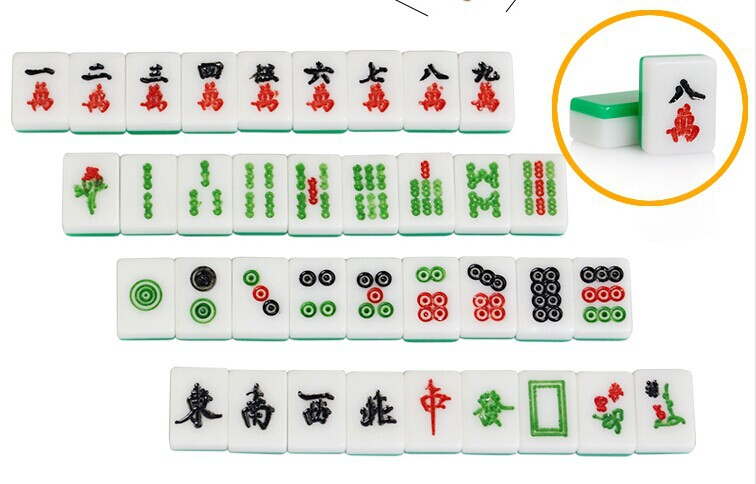1W: (13, 54, 67, 123)
1i: (70, 156, 113, 219)
2W: (75, 56, 113, 120)
2i: (128, 157, 169, 223)
3W: (133, 56, 177, 118)
3i: (184, 157, 226, 220)
4W: (190, 59, 229, 116)
4i: (240, 158, 280, 222)
5W: (246, 59, 286, 118)
5i: (292, 157, 334, 221)
6W: (299, 54, 339, 116)
6i: (349, 159, 392, 225)
7W: (355, 54, 393, 115)
7i: (405, 158, 449, 219)
8W: (648, 61, 714, 149), (412, 56, 452, 116)
8i: (461, 157, 505, 222)
9W: (467, 54, 508, 117)
9i: (519, 157, 560, 219)
East: (172, 370, 224, 440)
Green: (469, 382, 519, 436)
North: (354, 383, 399, 433)
Red: (415, 377, 456, 441)
South: (234, 377, 279, 434)
West: (293, 383, 336, 437)
White: (523, 373, 571, 444)
